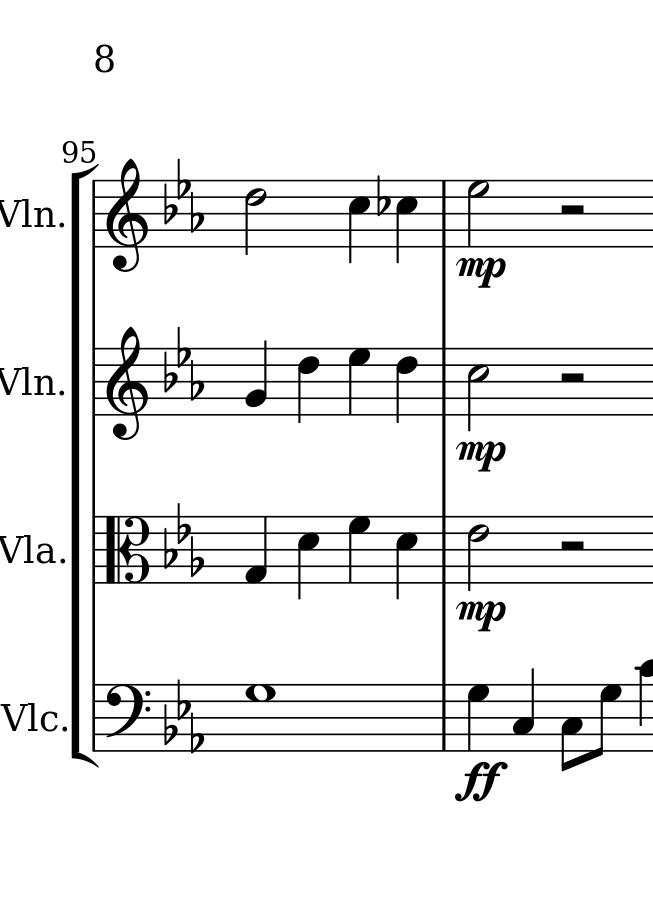1_7: (245, 681, 278, 758)
2_5: (465, 344, 491, 430)
2_6: (239, 174, 274, 258), (466, 513, 492, 591)
2_7: (466, 177, 492, 248)
4_1: (244, 513, 272, 584)
4_2: (242, 337, 270, 418)
4_3: (509, 665, 536, 752)
4_5: (342, 175, 373, 262), (392, 176, 417, 262), (296, 514, 320, 600), (395, 514, 418, 602)
4_6: (296, 347, 324, 423), (394, 347, 420, 426)
4_7: (463, 681, 494, 754), (347, 344, 373, 420), (347, 512, 372, 589)
5: (79, 139, 98, 166)
8: (93, 43, 114, 75)
8_3: (557, 683, 582, 774)
8_7: (593, 681, 621, 763)
9: (60, 140, 77, 166)
Bracke: (68, 165, 102, 769)
Cclef: (101, 513, 150, 587)
E_F: (162, 677, 206, 751), (163, 161, 206, 234), (163, 503, 204, 579), (163, 327, 204, 401)
Fclef: (99, 680, 150, 760)
Gclef: (104, 325, 150, 446), (105, 159, 150, 276)
Rests2: (555, 537, 588, 558), (557, 369, 589, 390), (552, 201, 587, 219)
Single_barline: (434, 348, 458, 415), (433, 515, 456, 584), (434, 684, 457, 753), (434, 181, 458, 247), (84, 181, 106, 247), (86, 515, 104, 584), (88, 684, 105, 753), (87, 348, 103, 417)
Vla: (1, 693, 64, 738), (1, 531, 61, 571)
Vln: (1, 192, 59, 234), (1, 362, 55, 402)
ff: (449, 759, 505, 806)
mp: (453, 598, 511, 637), (455, 434, 508, 476), (457, 249, 504, 290)
